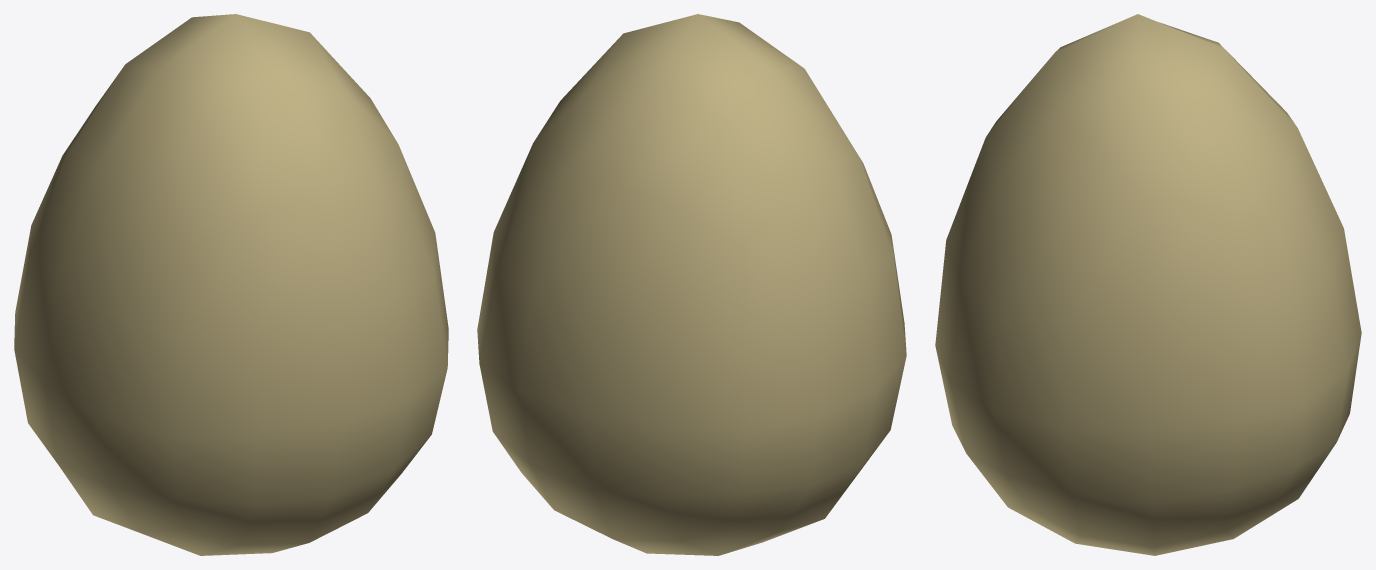
File: Huevo.fbx
The picture shows the model from 3 angles, left to right: view 1: azimuth 30°, elevation 25°; view 2: azimuth 150°, elevation 25°; view 3: azimuth 270°, elevation 25°; orthographic projection.
Parts seen in each view (by area): view 1: Huevo; view 2: Huevo; view 3: Huevo.
Boxes of the visible parts, <box> form: Huevo: <box>14,14,448,555</box>; Huevo: <box>477,14,906,555</box>; Huevo: <box>935,14,1361,555</box>.
Bounding box in the file's own units: 10.46 × 14.03 × 10.46.
